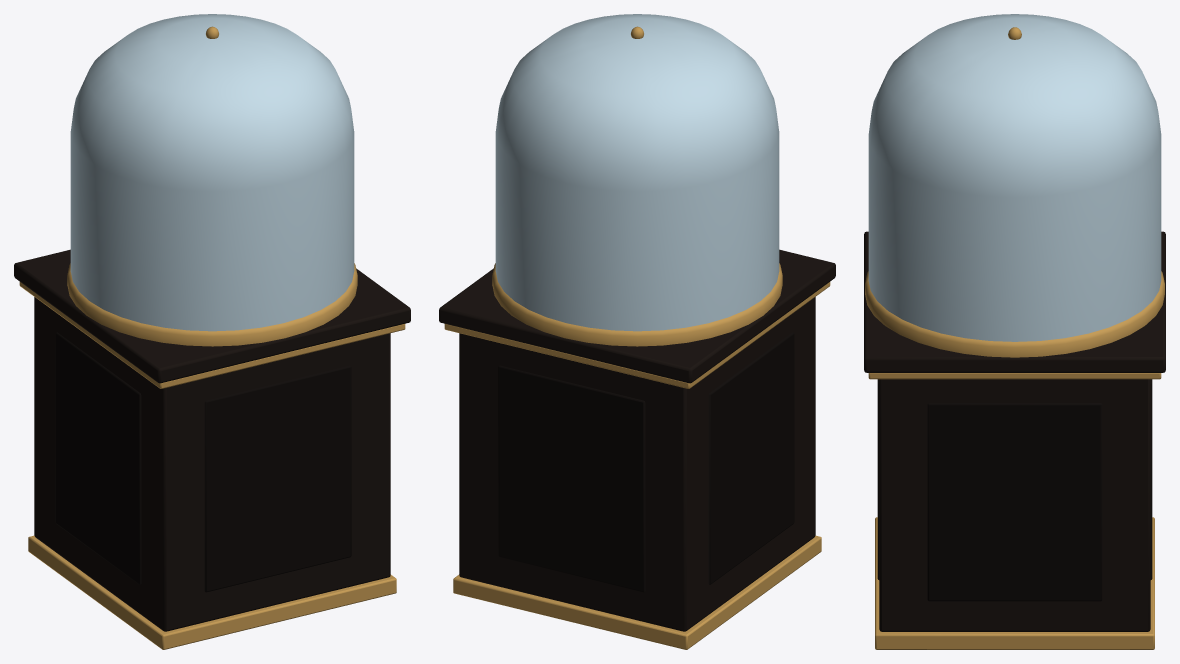
File: scales.glb
3 renders of one model, left to right at view 1: azimuth 30°, elevation 25°; view 2: azimuth 150°, elevation 25°; view 3: azimuth 270°, elevation 25°, orthographic. The views are drawn at different scales.
Visible parts, largest first — view 1: scales_glass_dome, scales_lacquer, scales_lacquer_inset, scales_brass; view 2: scales_glass_dome, scales_lacquer, scales_lacquer_inset, scales_brass; view 3: scales_glass_dome, scales_lacquer, scales_lacquer_inset, scales_brass.
Part boxes in pixels (bbox=[...]): scales_glass_dome: bbox=[70, 14, 354, 331]; scales_lacquer: bbox=[14, 249, 410, 631]; scales_lacquer_inset: bbox=[55, 332, 351, 592]; scales_brass: bbox=[19, 26, 405, 649]; scales_glass_dome: bbox=[495, 14, 779, 331]; scales_lacquer: bbox=[439, 249, 835, 631]; scales_lacquer_inset: bbox=[498, 332, 794, 592]; scales_brass: bbox=[444, 26, 830, 649]; scales_glass_dome: bbox=[868, 14, 1161, 341]; scales_lacquer: bbox=[864, 231, 1165, 631]; scales_lacquer_inset: bbox=[877, 379, 1152, 601]; scales_brass: bbox=[865, 27, 1164, 649].
Bounding box in the file's own units: 0.69 × 1.42 × 0.69.
